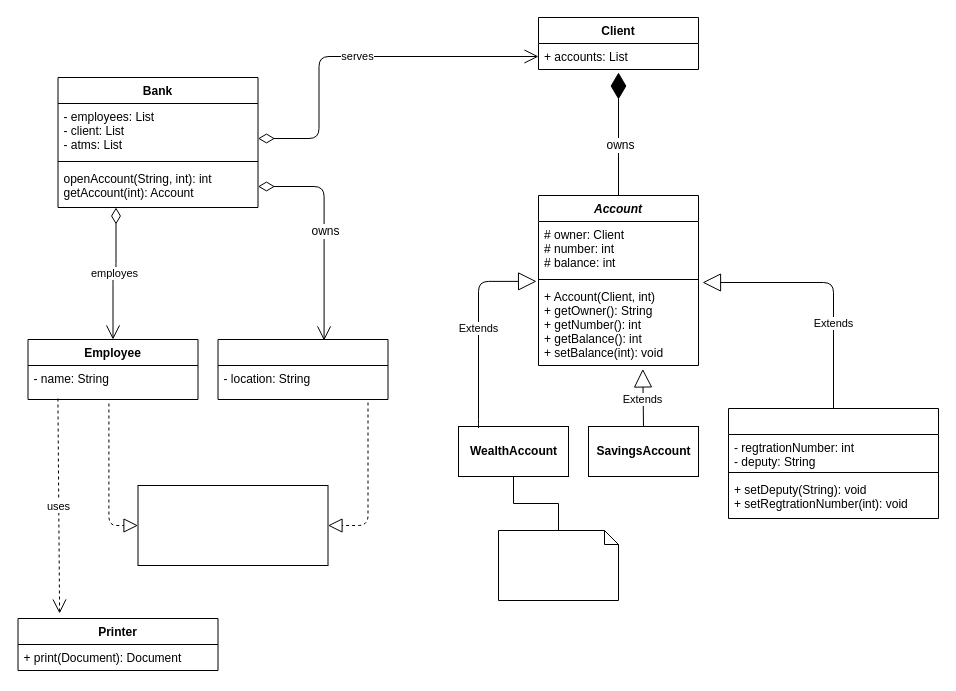
This 956x691 diagram has some shape labels left out. Each missing label, with the box of its shape:
<<Interface>> ITeller + withdraw(int, int): int + deposit(int, int): void: (137, 484, 328, 566)
ATM: (217, 338, 388, 400)
CompanyAccount: (728, 408, 938, 518)
Starting balance should be more than 50,000 EGP: (498, 530, 618, 600)
